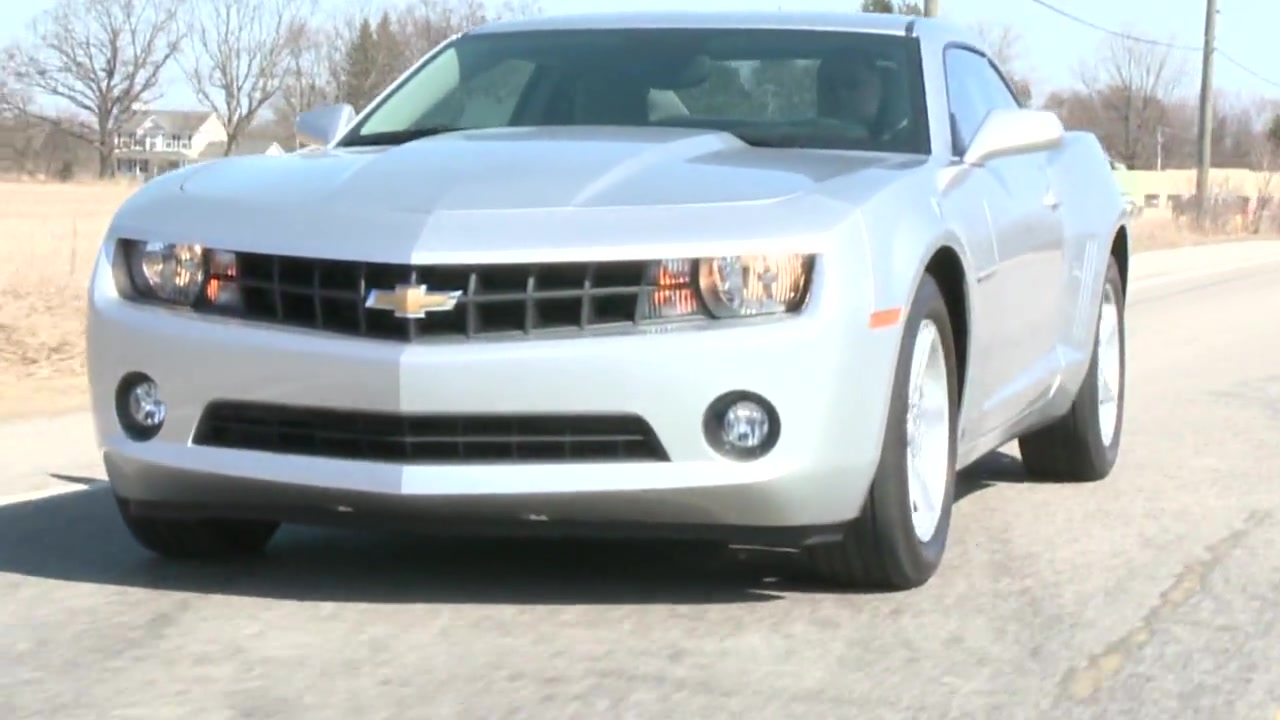car: (78, 8, 1135, 612)
